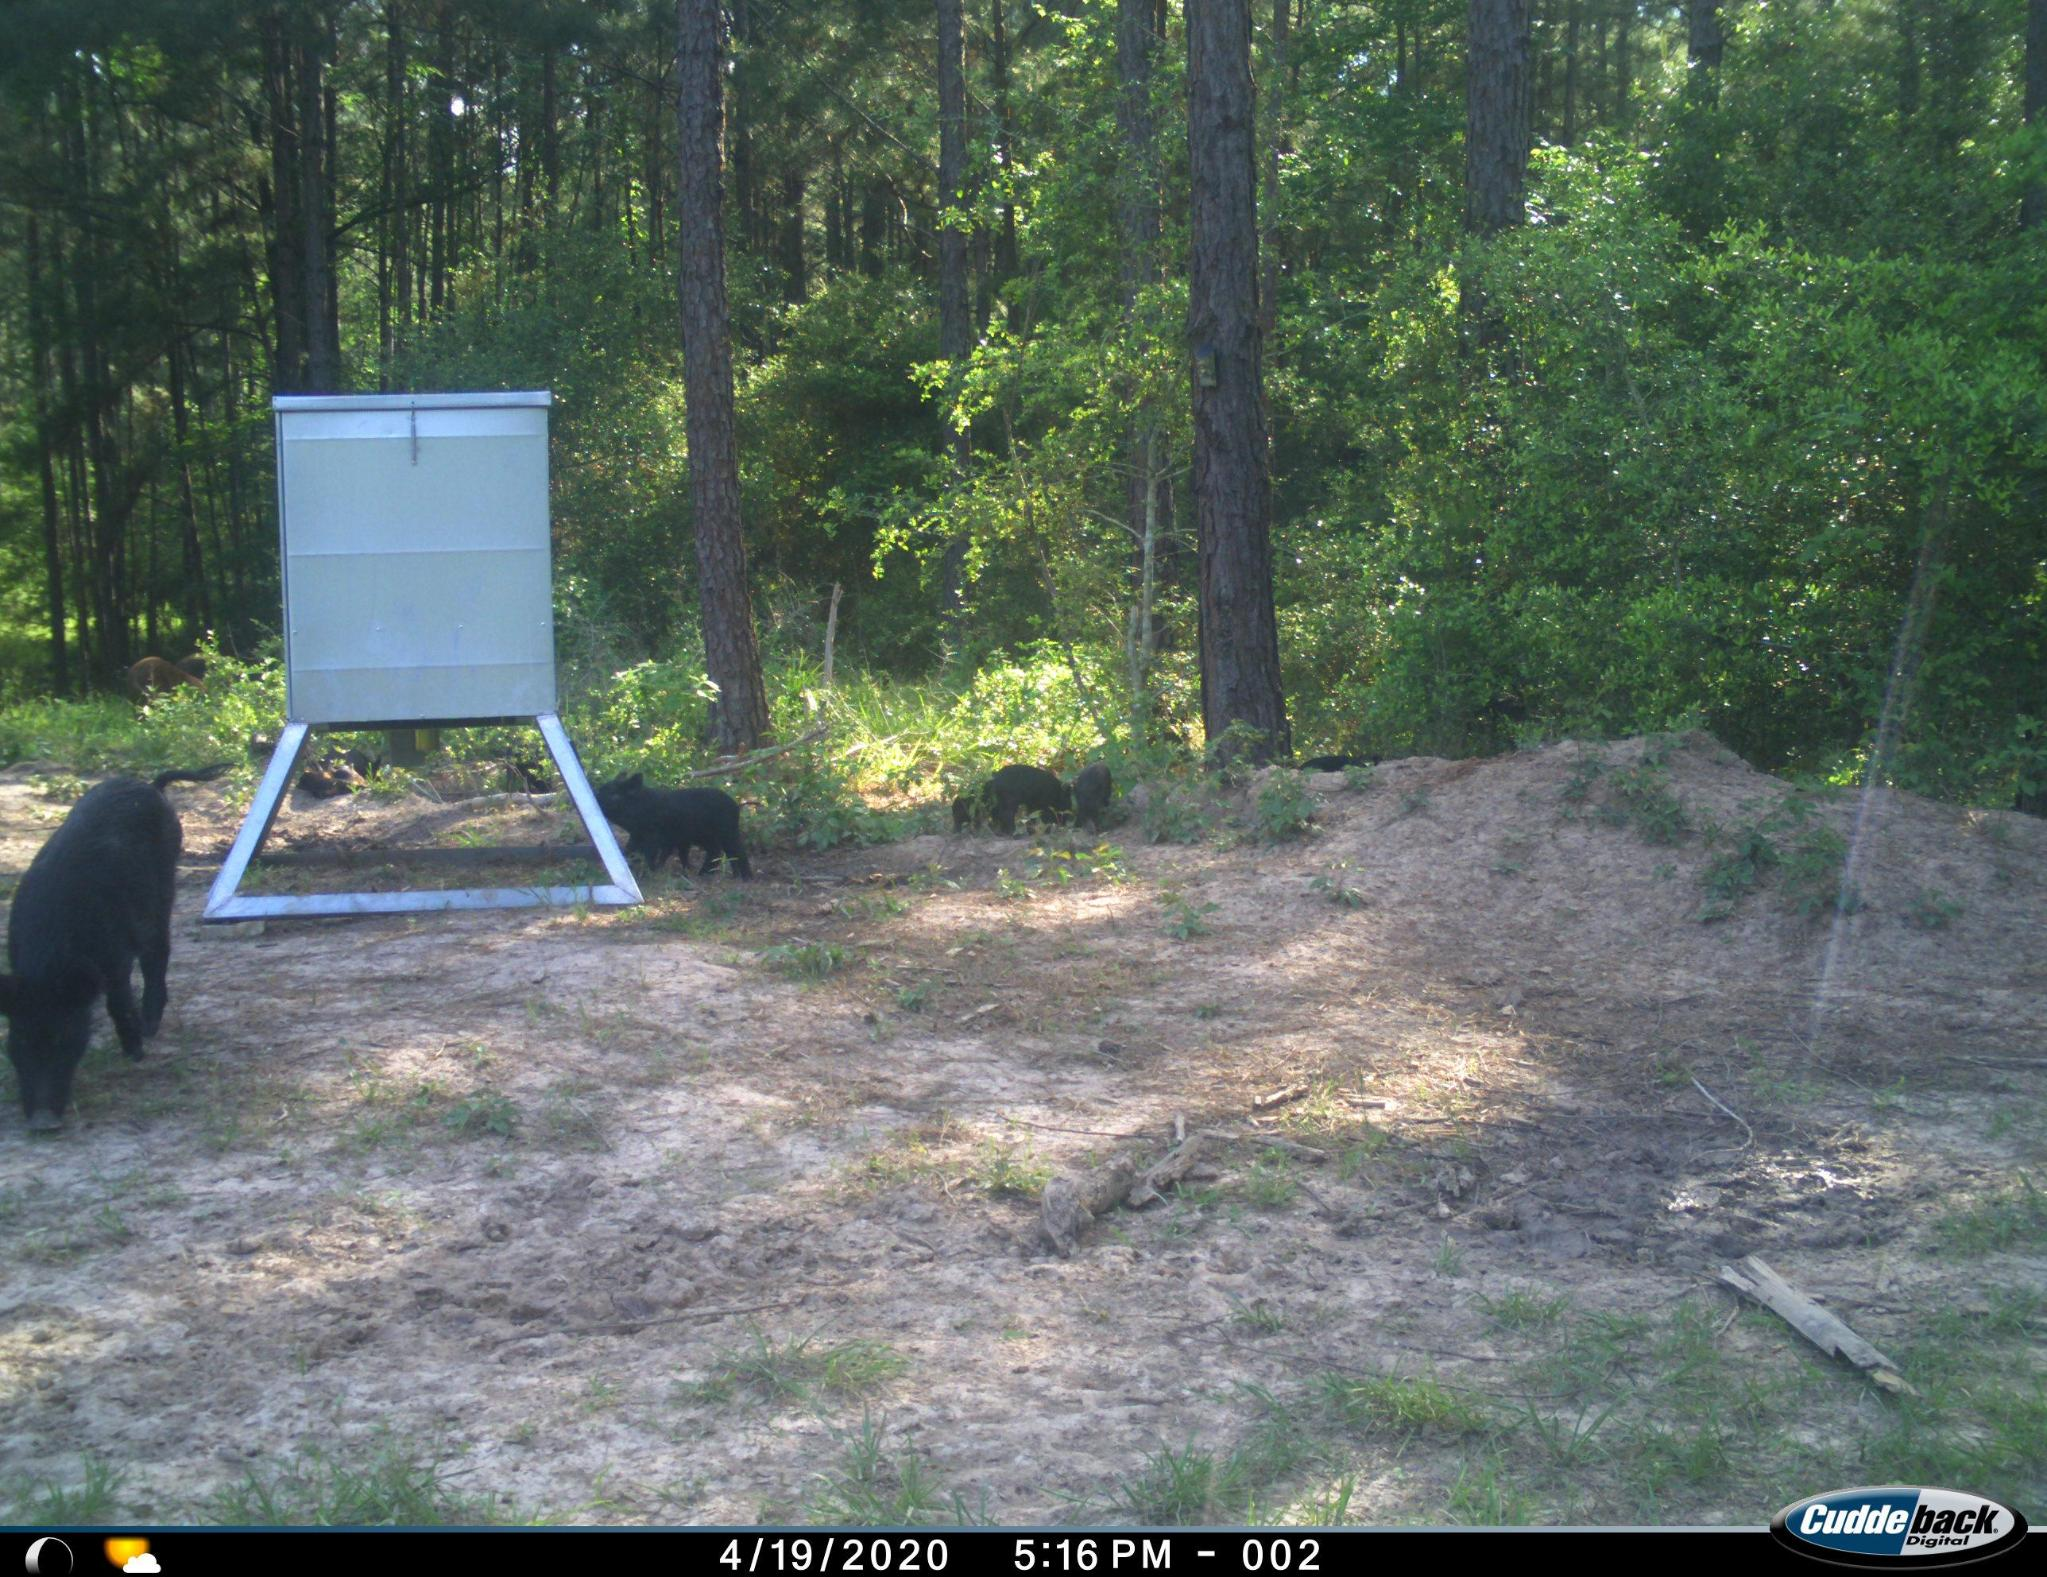Hog: (0, 750, 225, 1141), (583, 762, 763, 888), (952, 757, 1096, 846)
